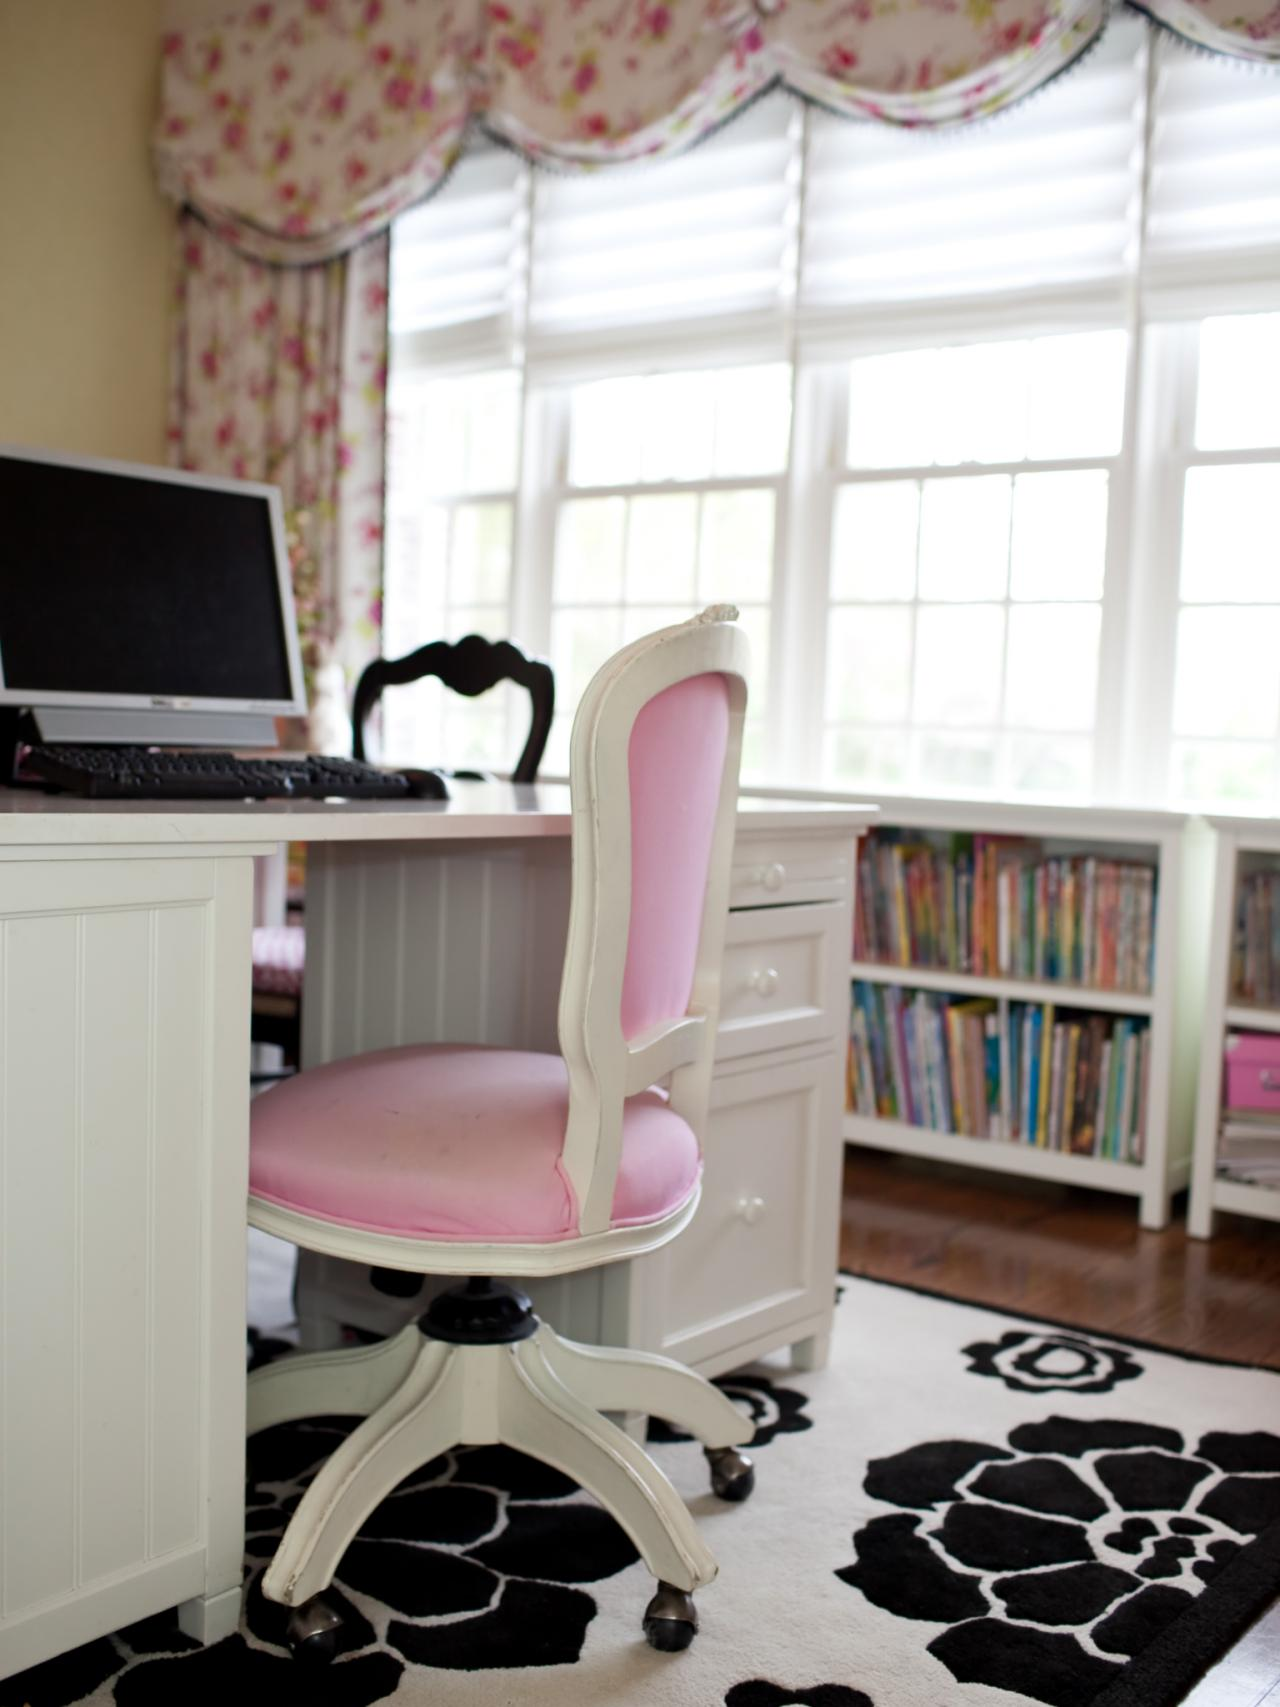chairs: (233, 591, 774, 1673)
